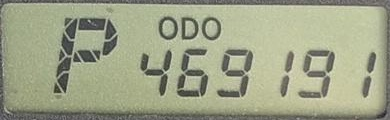1: (273, 49, 294, 100), (359, 50, 377, 100)
4: (138, 48, 172, 98)
6: (175, 48, 208, 98)
9: (296, 49, 336, 99), (215, 48, 253, 98)
X: (50, 15, 118, 97), (157, 15, 178, 40), (201, 16, 221, 40), (180, 16, 198, 40)
